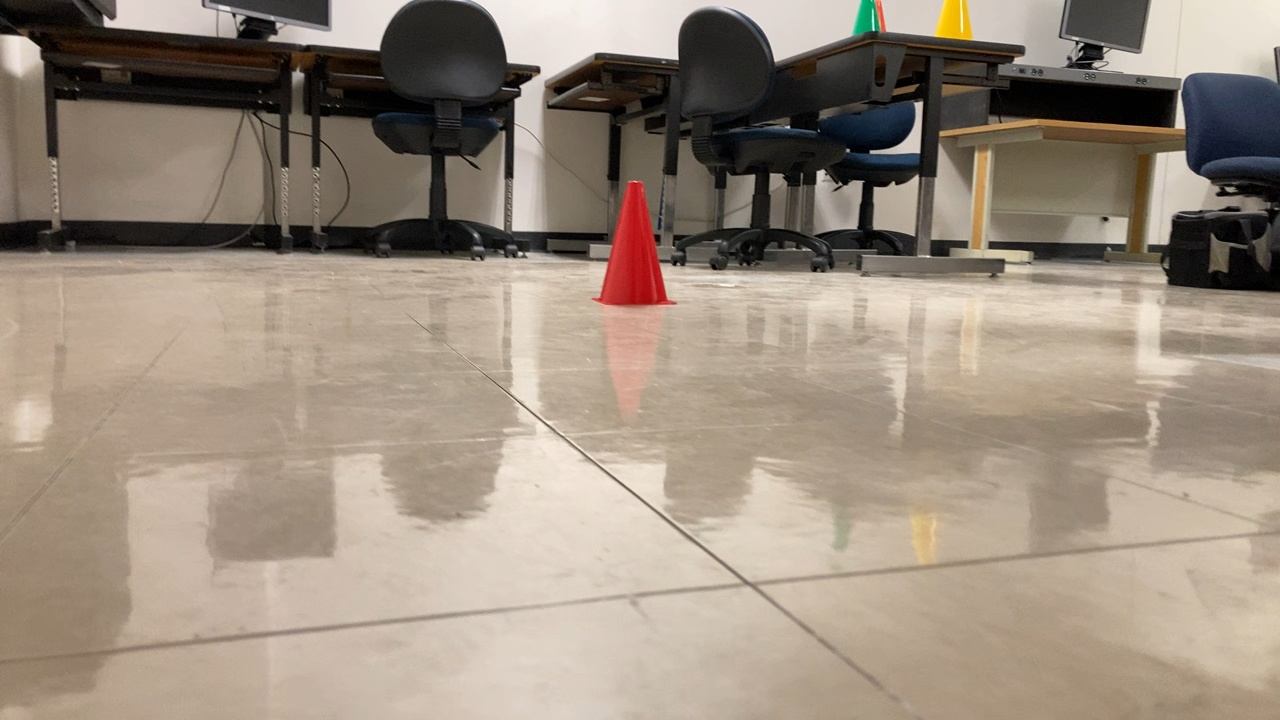red_cone: (591, 177, 680, 313)
